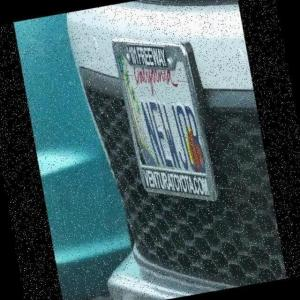Plate: (111, 27, 222, 215)
